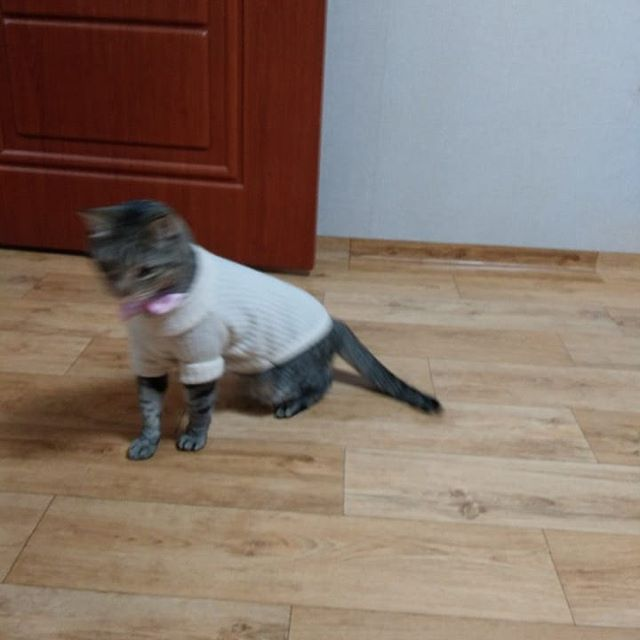cat: (80, 202, 188, 313)
